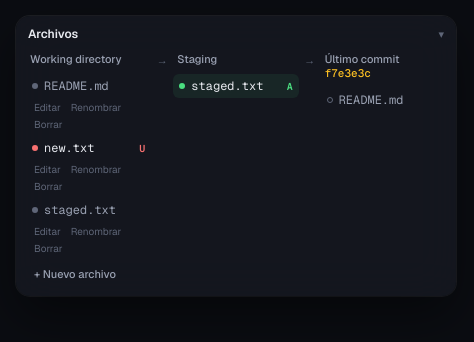
Test: FilesStrip / + Nuevo archivo › shows an inline Spanish error for an invalid name and keeps the input open
The width and height of the screenshot is (474, 342).
Click the button "+ Nuevo archivo" at (75, 274), box x1=30 y1=264 x2=120 y2=284
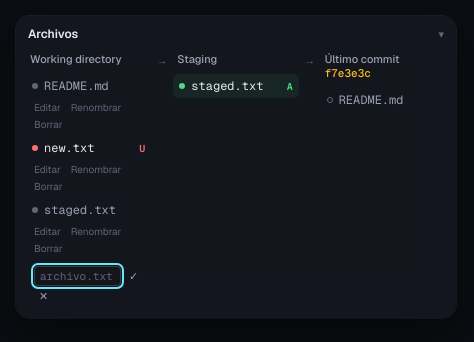
Type "bad name!" into the field named "Nombre del nuevo archivo" at (78, 276), box x1=34 y1=266 x2=121 y2=286
Then press Enter
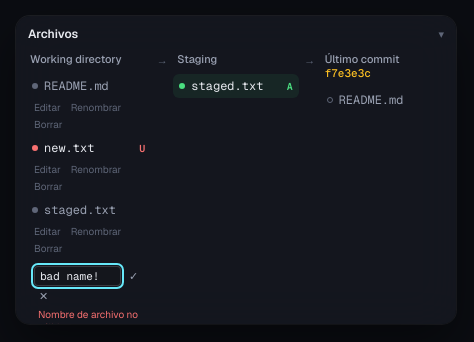
Now the text "Nombre de archivo no válido." is shown, box x1=34 y1=307 x2=143 y2=324
